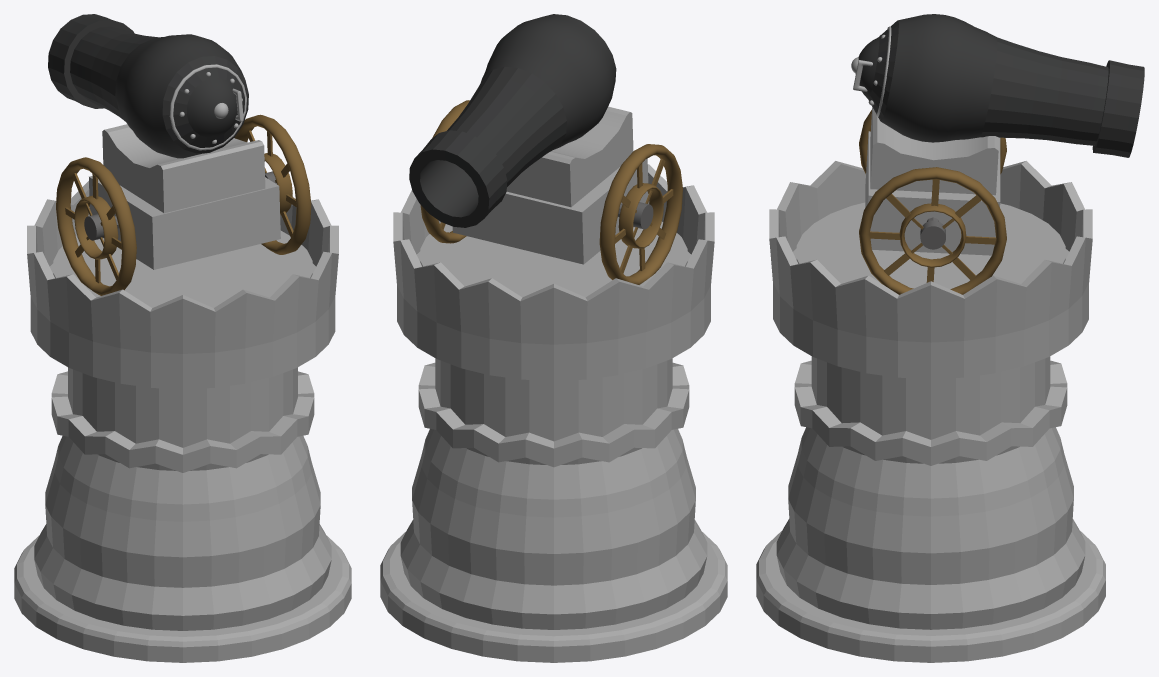
Rendered from Cannon_-Z.fbx.
The picture shows the model from 3 angles, left to right: view 1: azimuth 30°, elevation 25°; view 2: azimuth 150°, elevation 25°; view 3: azimuth 270°, elevation 25°; orthographic projection. The views are drawn at different scales.
Parts seen in each view (by area): view 1: pCylinder4, pCube56, pCylinder5; view 2: pCylinder4, pCube56, pCylinder5; view 3: pCylinder4, pCube56, pCylinder5.
Boxes of the visible parts, x1,y1,x2,y2 form: pCylinder4: (14, 181, 351, 662); pCube56: (48, 14, 311, 295); pCylinder5: (53, 230, 312, 307); pCylinder4: (380, 164, 727, 662); pCube56: (409, 14, 682, 284); pCylinder5: (420, 221, 687, 297); pCylinder4: (756, 161, 1105, 662); pCube56: (851, 14, 1144, 294); pCylinder5: (796, 202, 1065, 289).
Bounding box in the file's own units: 3.54 × 6.33 × 3.91.
